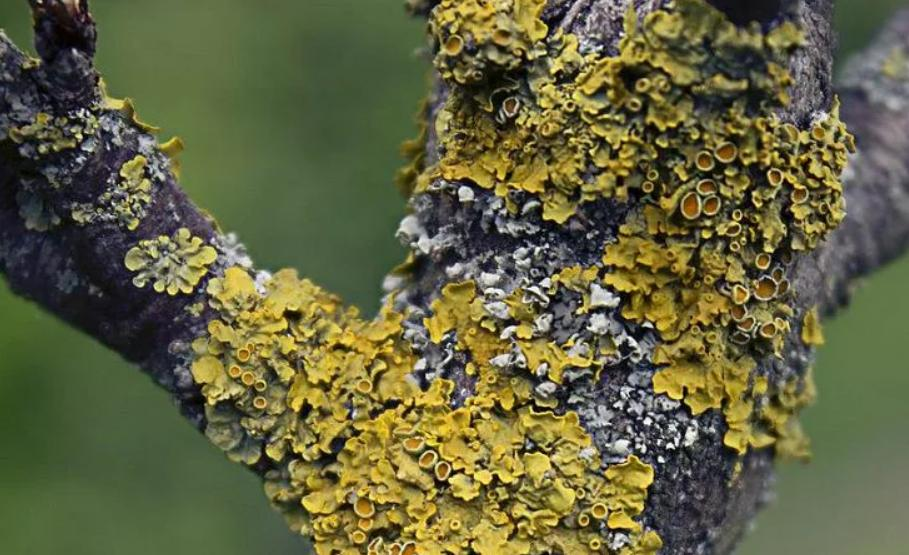lichen: (428, 0, 853, 455), (193, 268, 607, 554), (426, 281, 617, 413), (125, 228, 216, 295), (10, 111, 97, 156), (105, 155, 150, 229)
